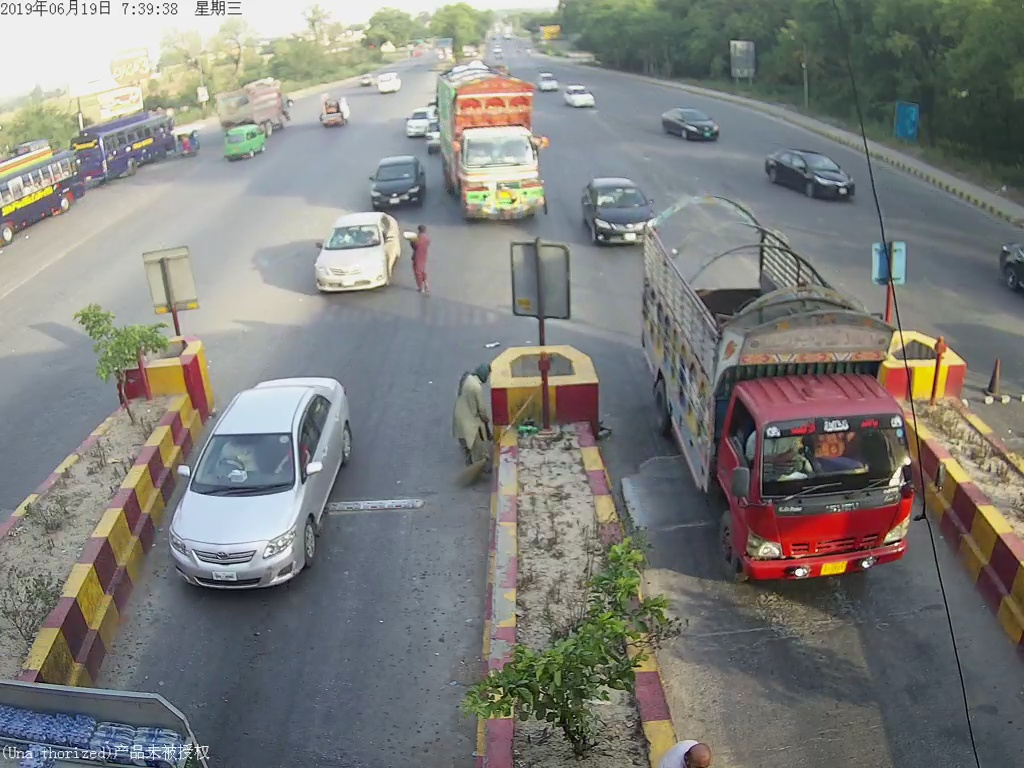Cat-1: (172, 379, 363, 595), (311, 213, 400, 293), (578, 181, 641, 244)
Cat-4: (646, 205, 919, 586), (446, 83, 550, 227)
